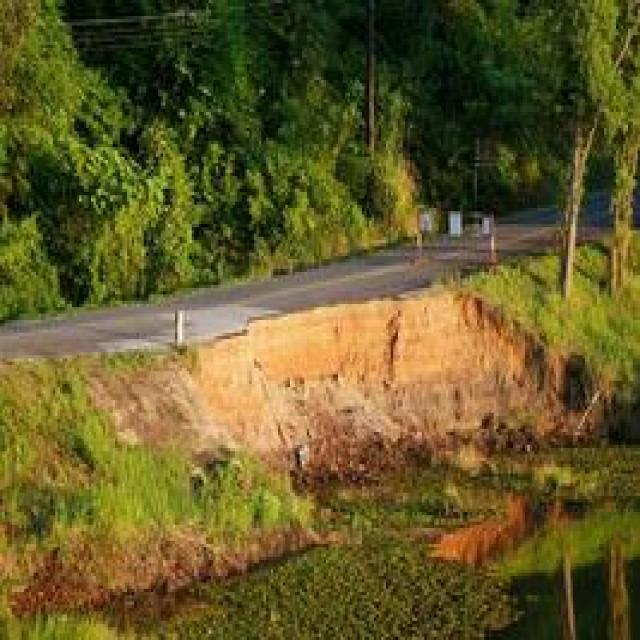road collapse: (0, 198, 609, 573)
